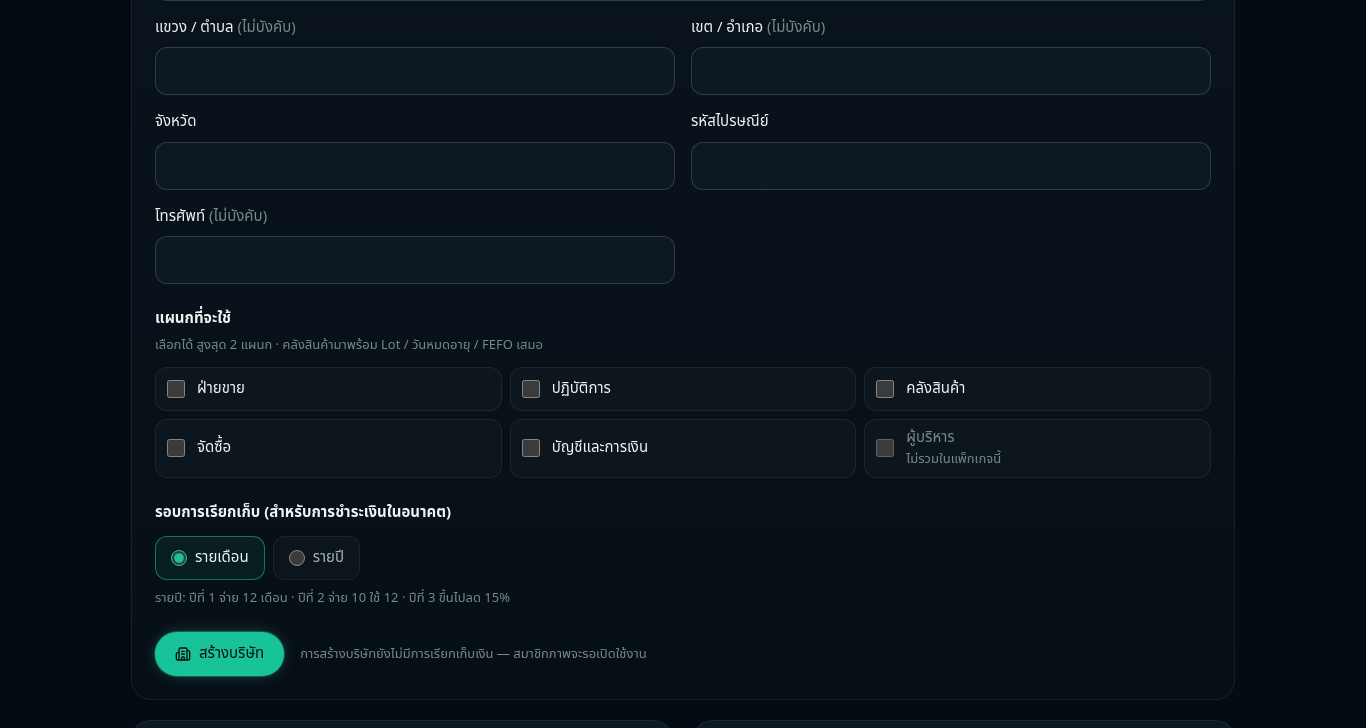
it: company form › Starter: Executive is not offered and two departments are the limit
(page scrolled)
Expected: the checkbox labelled "ผู้บริหาร ไม่รวมในแพ็กเกจนี้" is disabled, [876, 439, 894, 457]
Expected: the element "แผนกที่จะใช้" shows "ไม่รวมในแพ็กเกจนี้", [906, 449, 1001, 469]
Click the checkbox labelled "ฝ่ายขาย" at (176, 389), box [167, 380, 185, 398]
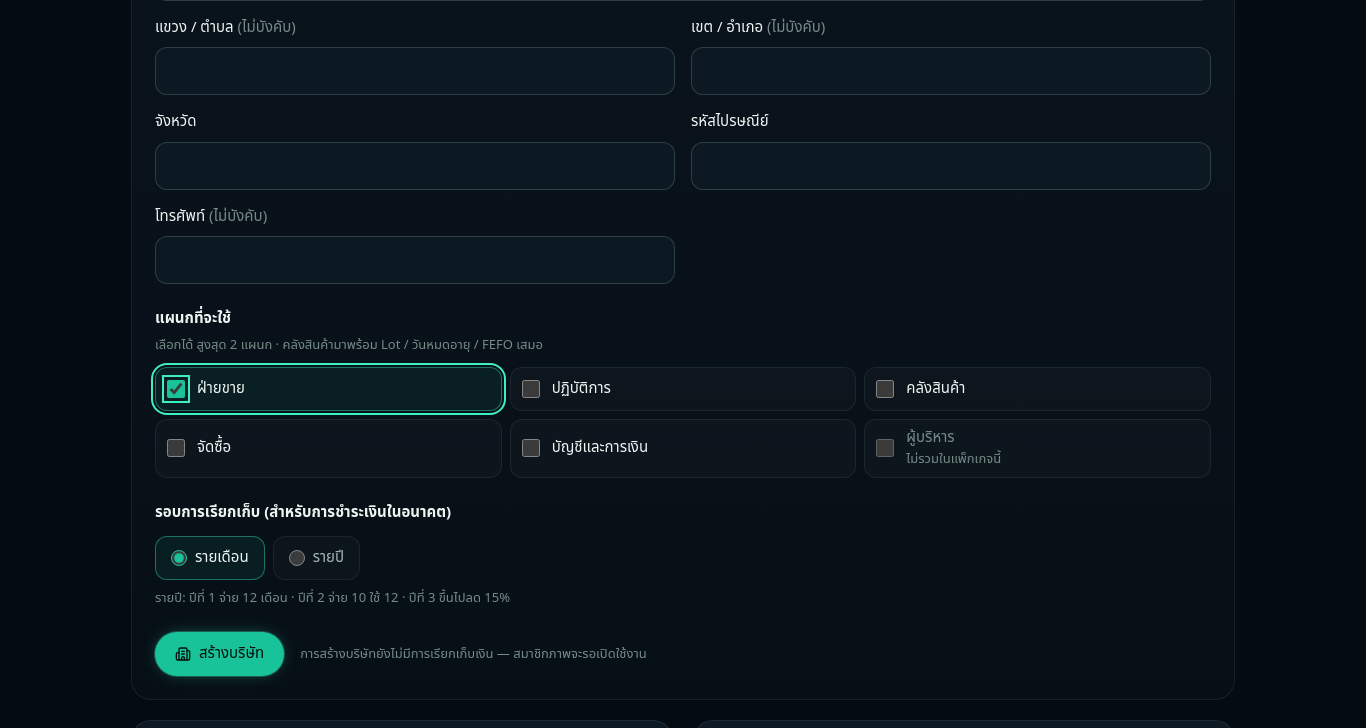
Click the checkbox labelled "คลังสินค้า" at (885, 389), box [876, 380, 894, 398]
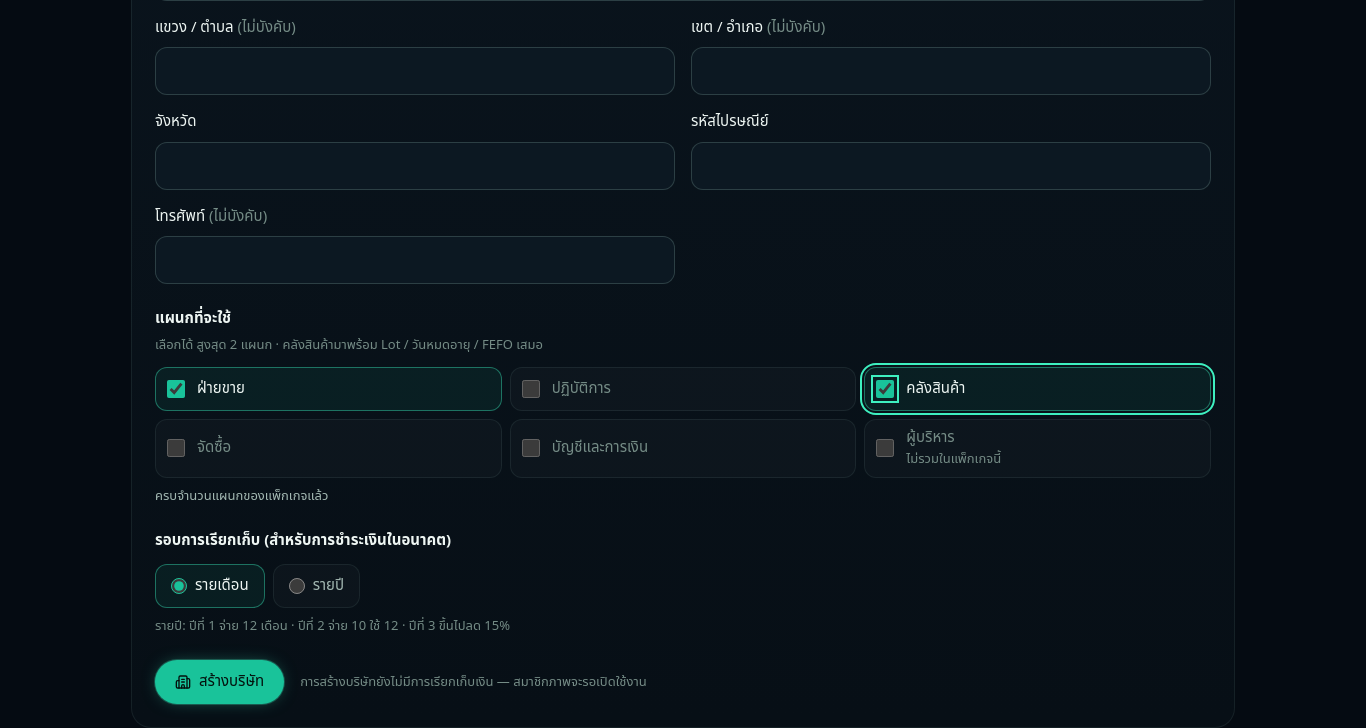
Now the checkbox labelled "จัดซื้อ" is disabled, box [167, 439, 185, 457]
Now the message reads "ครบจำนวนแผนกของแพ็กเกจแล้ว", box [155, 486, 328, 506]
